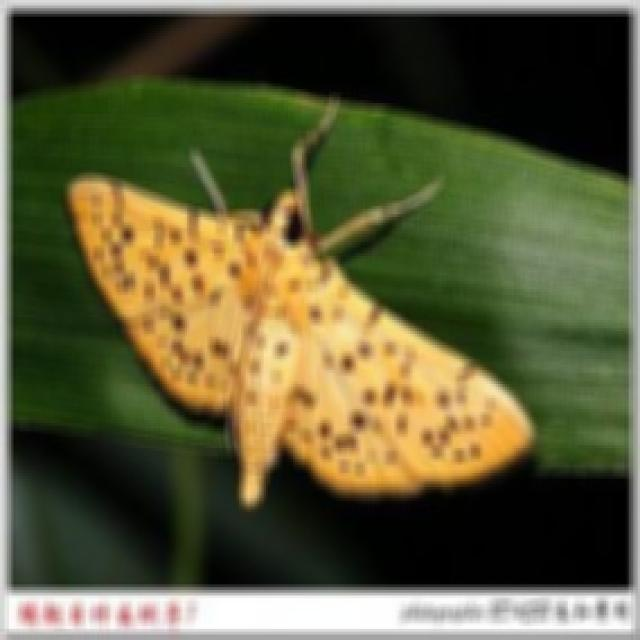peach borer: (59, 113, 539, 508)
